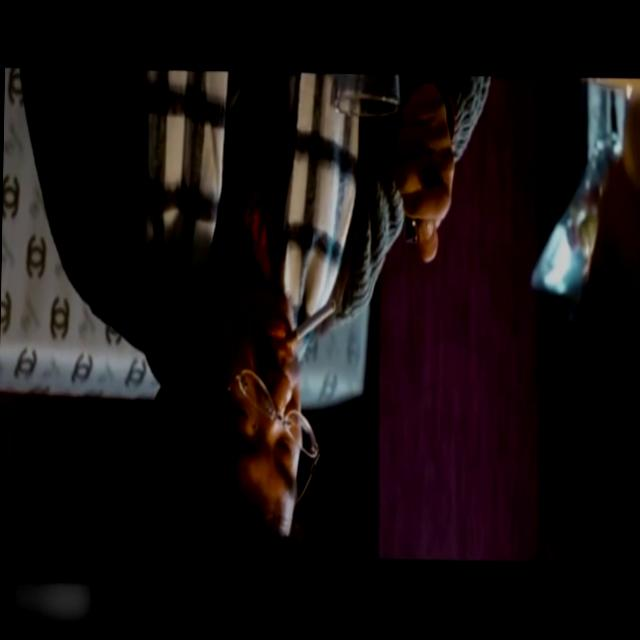smoke: (283, 298, 339, 358)
